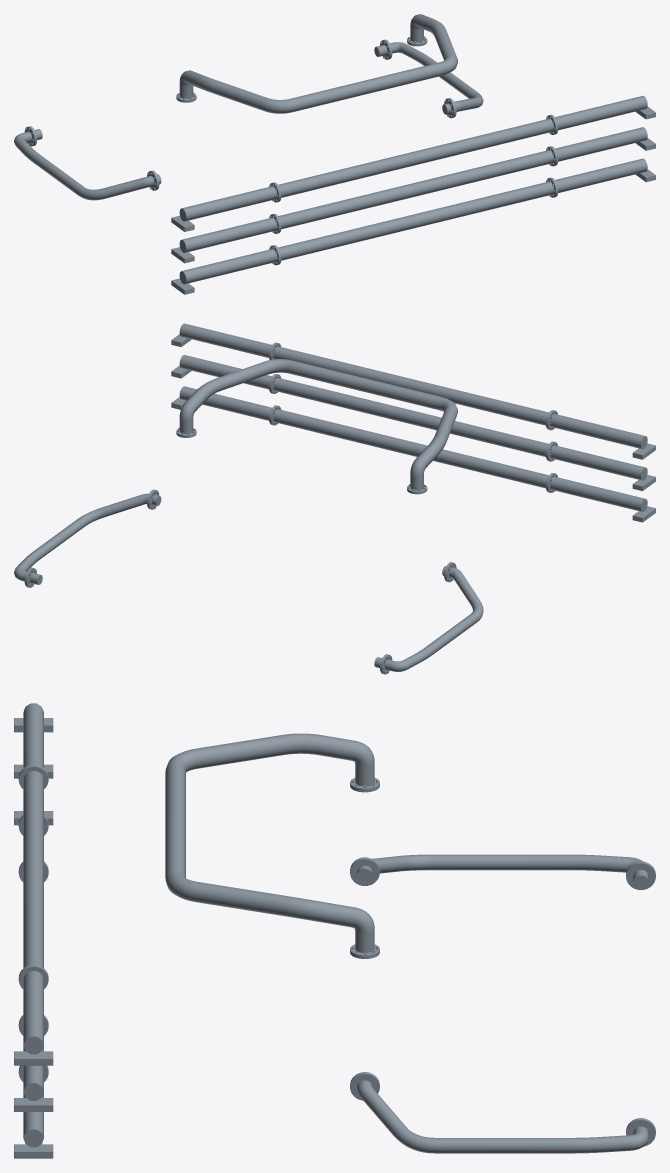
The model's file is CF_B2_ProcessPipework.fbx.
3 renders of one model, top to bottom at view 1: azimuth 30°, elevation 25°; view 2: azimuth 150°, elevation 25°; view 3: azimuth 270°, elevation 25°, orthographic. The views are drawn at different scales.
Parts seen in each view (by area): view 1: CF_B2_ProcessPipework.001; view 2: CF_B2_ProcessPipework.001; view 3: CF_B2_ProcessPipework.001.
Boxes of the visible parts, left/top/right/bottom form: CF_B2_ProcessPipework.001: left=14, top=14, right=655, bottom=294; CF_B2_ProcessPipework.001: left=14, top=323, right=655, bottom=674; CF_B2_ProcessPipework.001: left=14, top=703, right=655, bottom=1158.
Size of the model in its own units: 1022 by 281 by 814.
